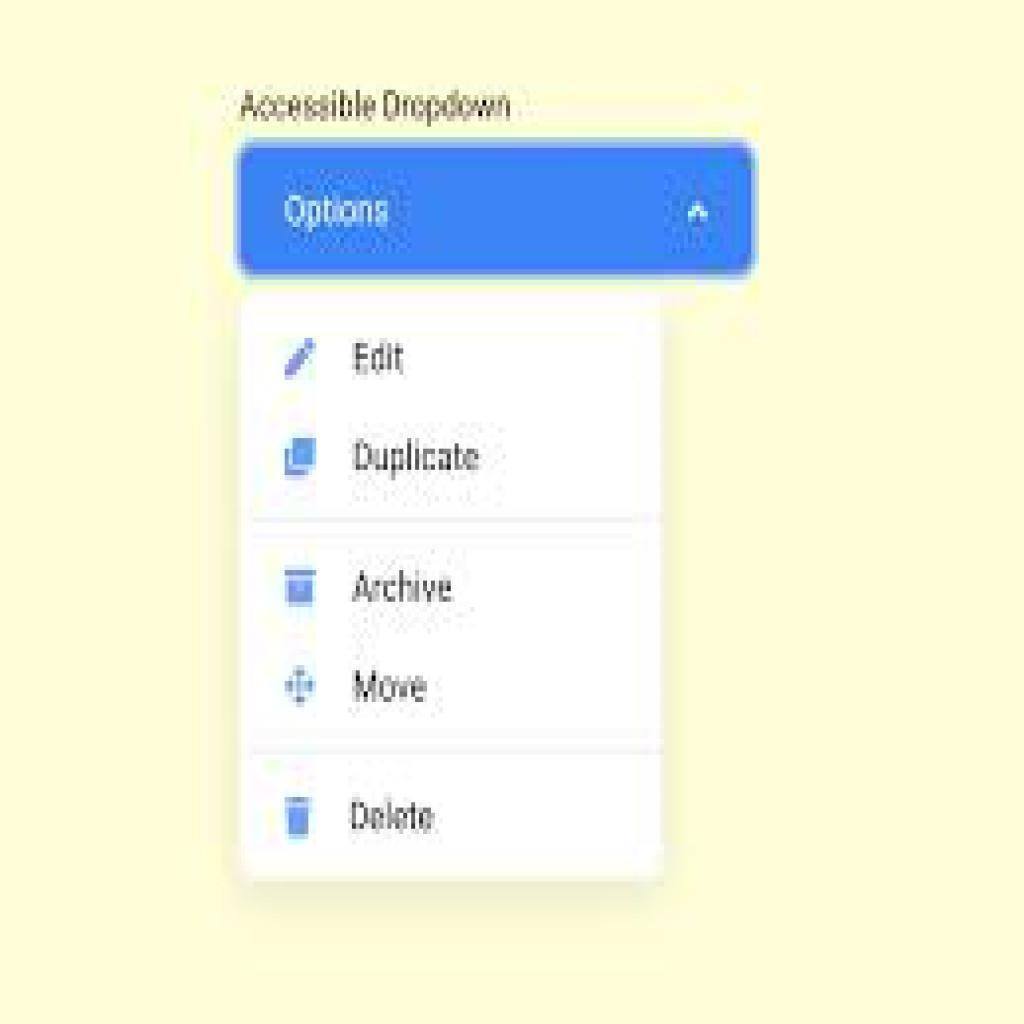dropdown: (236, 139, 757, 281)
icon: (273, 328, 326, 391), (277, 786, 326, 842), (274, 561, 324, 615), (278, 661, 321, 716), (276, 436, 325, 484)
